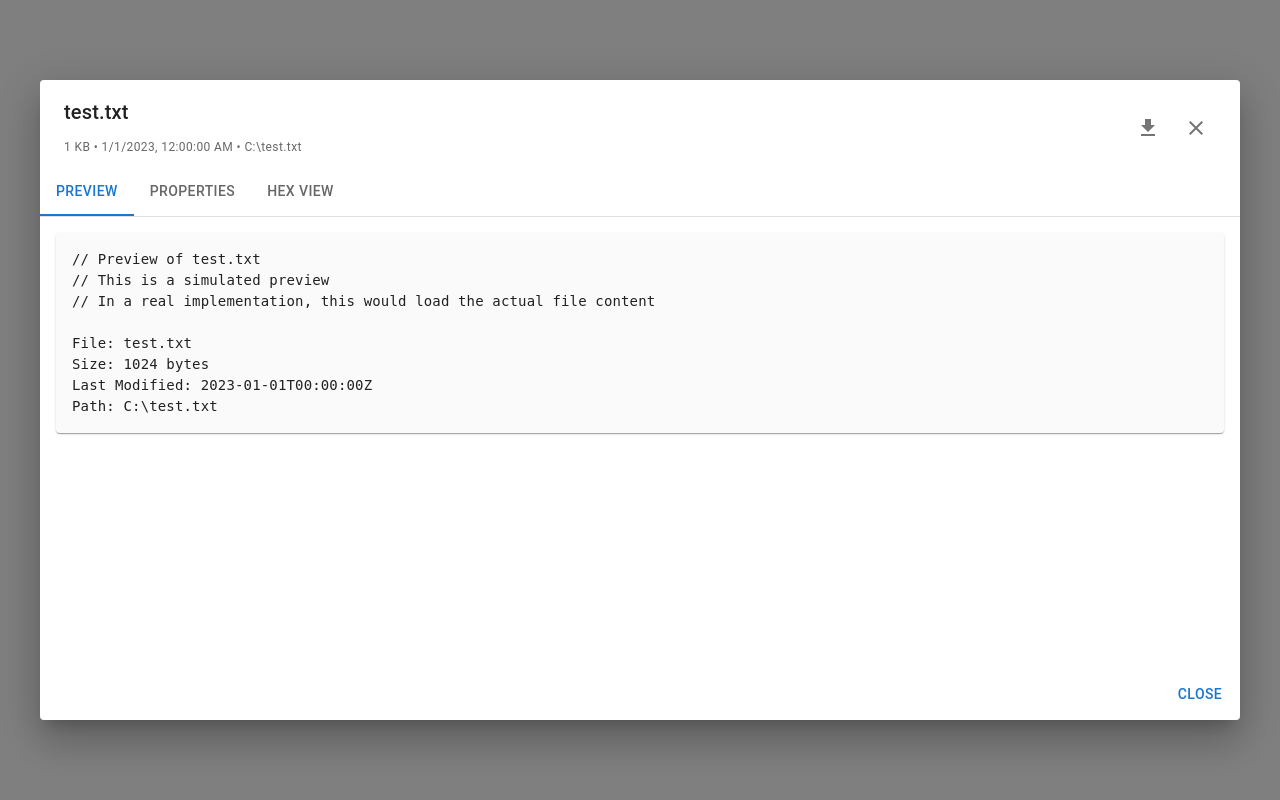
it: FilePreview › switches between tabs
Click the tab "Properties".
click(192, 192)  # box [134, 168, 251, 216]
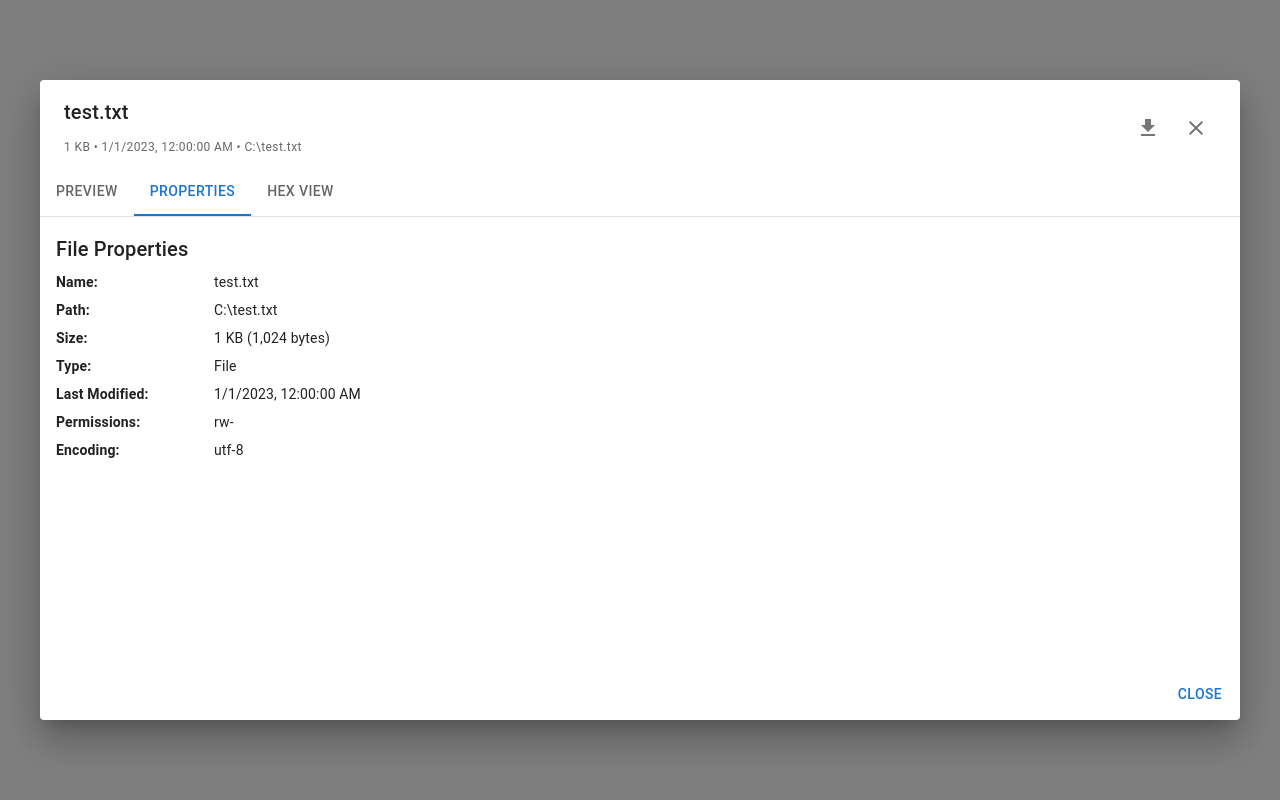
Expected: the text "Size:" is shown, [56, 330, 88, 346]
Now the heading "File Properties" is shown, box [56, 237, 188, 261]
Now the text "Name:" is shown, box [56, 274, 98, 290]
